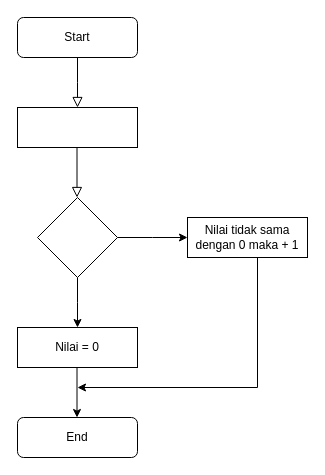
The diagram is 325 pixels wide and 475 high, and some of its shapes have lost their labels. Each missing label, with the box of its shape:
2 (Loop): (36, 196, 118, 278)
Input nilai: (16, 106, 138, 148)
